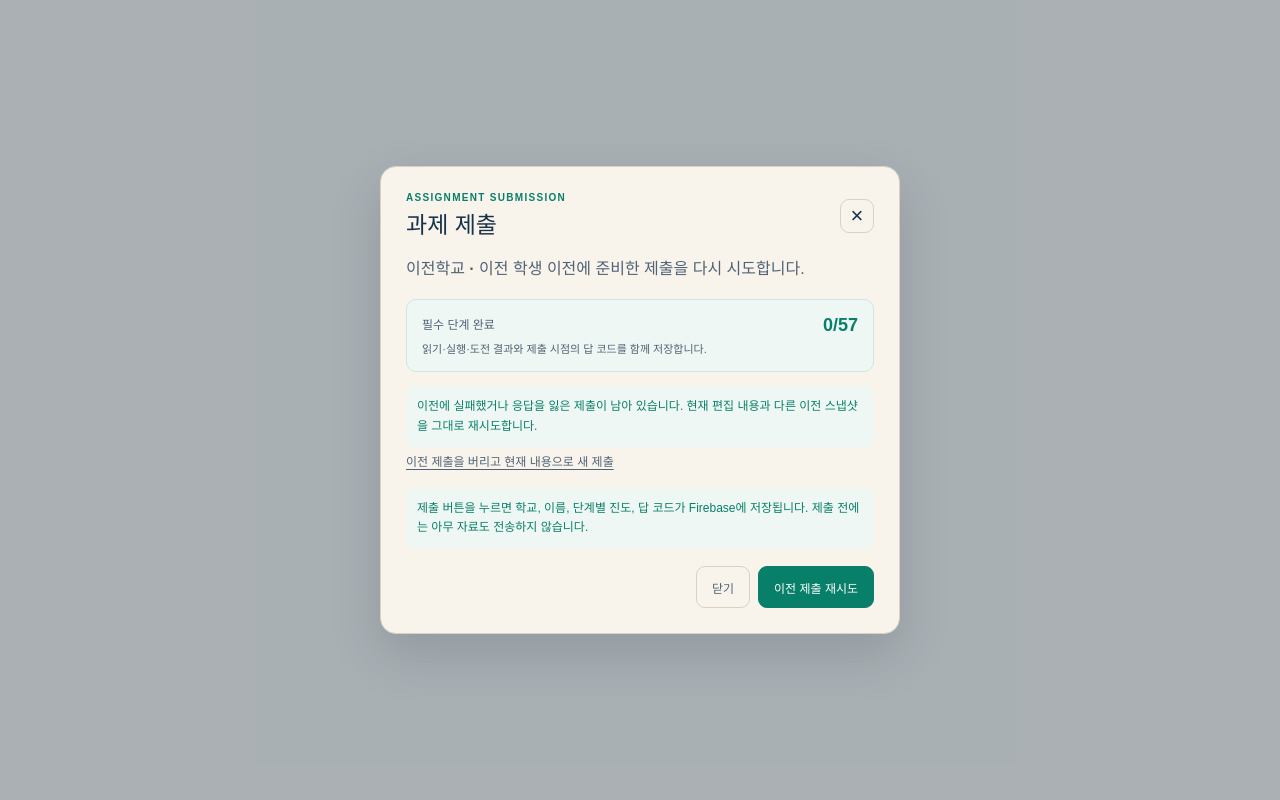
Test case: SubmissionDialog pending snapshot › shows the original retry snapshot and requires an explicit discard for current data
The image size is (1280, 800).
Check: the text "이전학교 · 이전 학생" is shown, box [406,260,542,277]
Click the button "이전 제출을 버리고 현재 내용으로 새 제출".
click(510, 460)  # box [406,447,614,474]
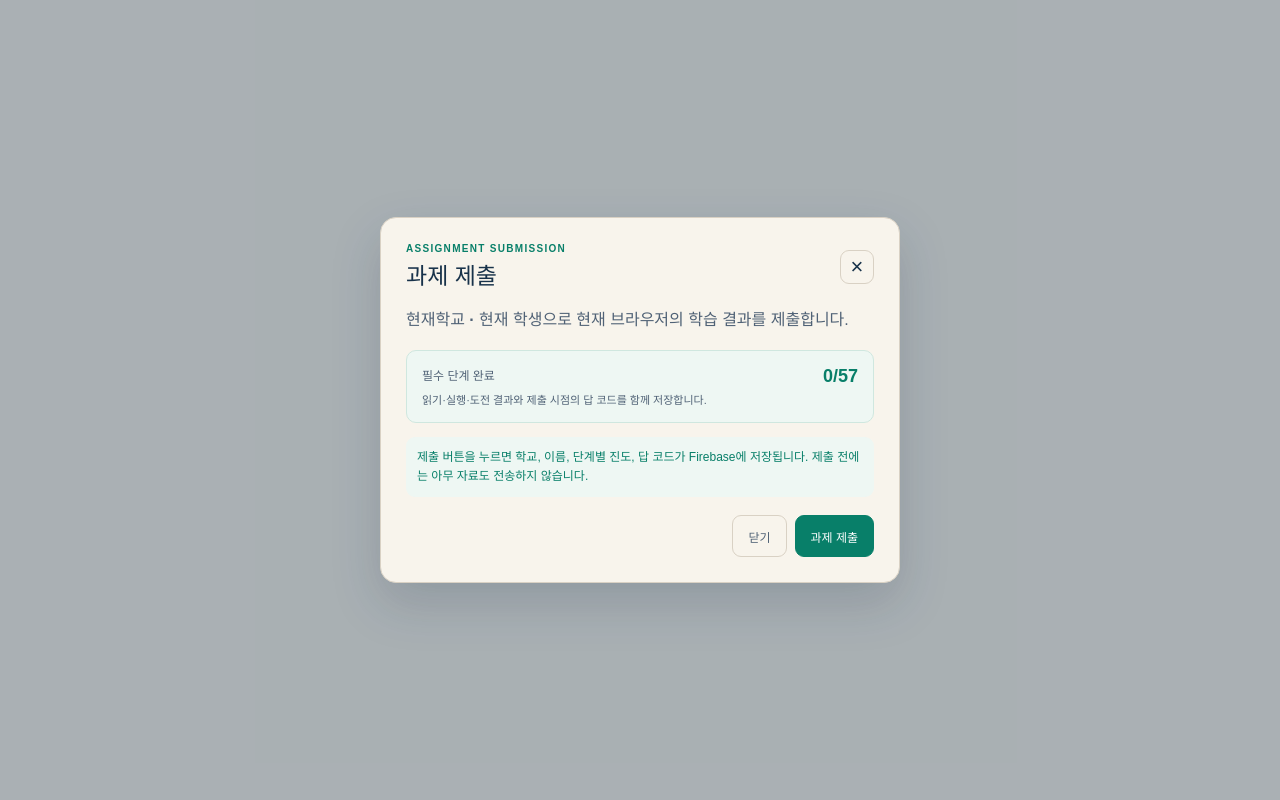
Check: the button "이전 제출을 버리고 현재 내용으로 새 제출" is gone
Check: the text "현재학교 · 현재 학생" is shown, box [406,310,542,328]
